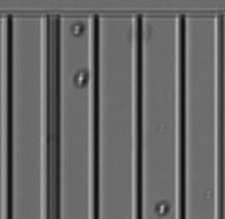Living Cell: (74, 70, 89, 87), (69, 22, 86, 36), (154, 200, 169, 215)
